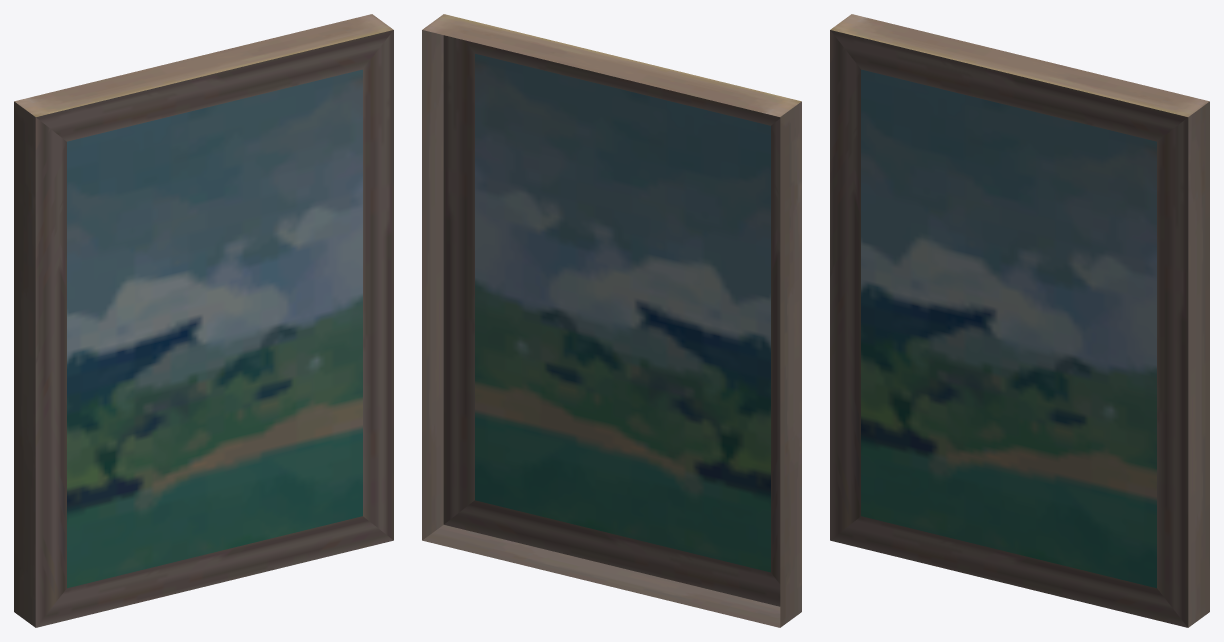
File: Homeworld_Interior_Md_Walldecoration_Painting_03_Vo.fbx
3 renders of one model, left to right at view 1: azimuth 30°, elevation 25°; view 2: azimuth 150°, elevation 25°; view 3: azimuth 330°, elevation 25°, orthographic.
Visible parts, largest first — view 1: Indoor_MdProps_AngelShare01_Pictures11_Vo; view 2: Indoor_MdProps_AngelShare01_Pictures11_Vo; view 3: Indoor_MdProps_AngelShare01_Pictures11_Vo.
Part boxes in pixels (x1,y1,x2,y2): Indoor_MdProps_AngelShare01_Pictures11_Vo: (14,14,393,627); Indoor_MdProps_AngelShare01_Pictures11_Vo: (422,14,801,627); Indoor_MdProps_AngelShare01_Pictures11_Vo: (830,14,1209,627).
Size of the model in its own units: 0.9276 by 1.26 by 0.0974.
